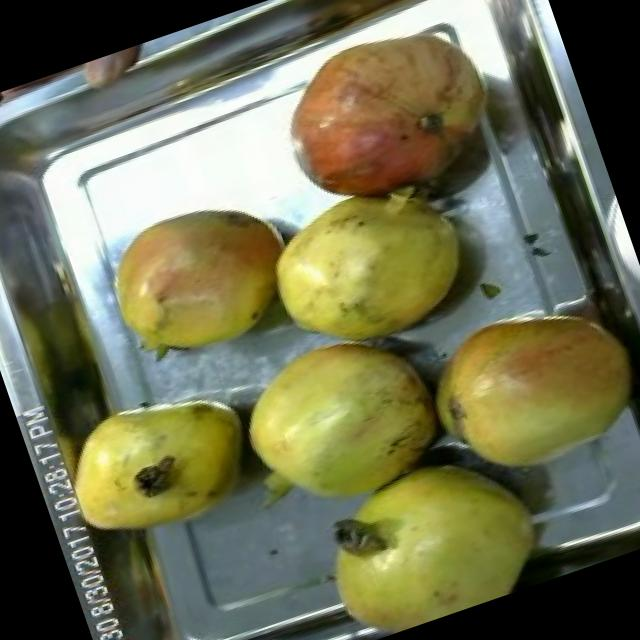fruit: (198, 292, 488, 562), (383, 254, 640, 531), (254, 3, 511, 240), (240, 152, 505, 380), (79, 171, 327, 391), (35, 363, 276, 564), (59, 37, 170, 104)
